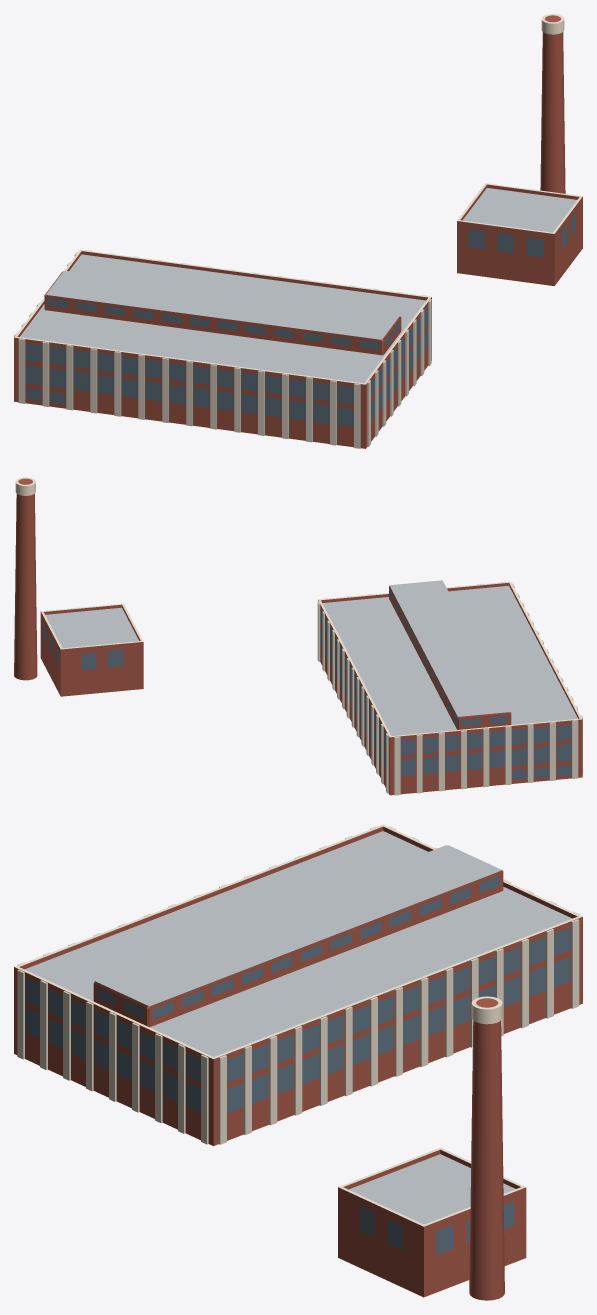
The model's file is detail.glb.
The picture shows the model from 3 angles, top to bottom: view 1: azimuth 30°, elevation 25°; view 2: azimuth 150°, elevation 25°; view 3: azimuth 270°, elevation 25°; orthographic projection. The views are drawn at different scales.
Visible parts, largest first — view 1: chadbourn-mill; view 2: chadbourn-mill; view 3: chadbourn-mill.
Boxes of the visible parts, bbox=[...] form: chadbourn-mill: bbox=[14, 14, 582, 448]; chadbourn-mill: bbox=[14, 477, 582, 795]; chadbourn-mill: bbox=[14, 824, 582, 1300].
Size of the model in its own units: 103 by 35.7 by 63.46.
